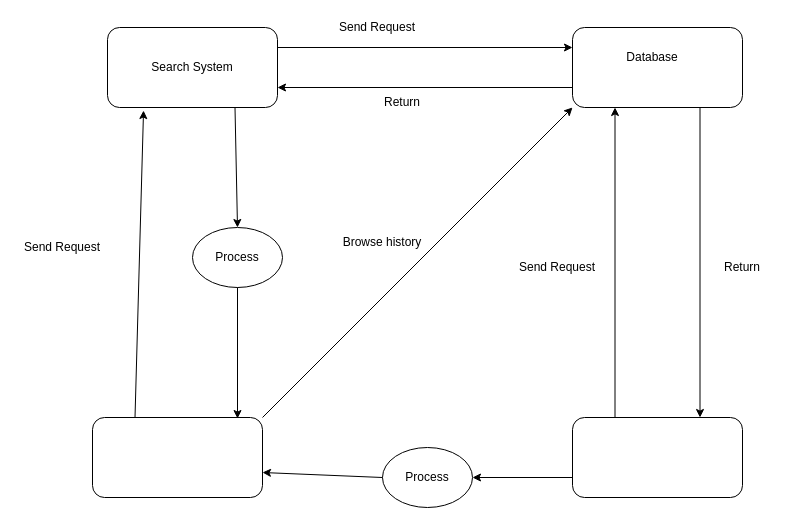
Image size: 799x525. Some labels were removed from this diagram. Each missing label, with the box of its shape:
Recommendation system: (572, 416, 742, 498)
User Page: (92, 416, 262, 498)
